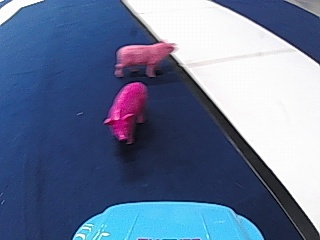pig: (102, 79, 145, 144), (113, 38, 173, 77)
